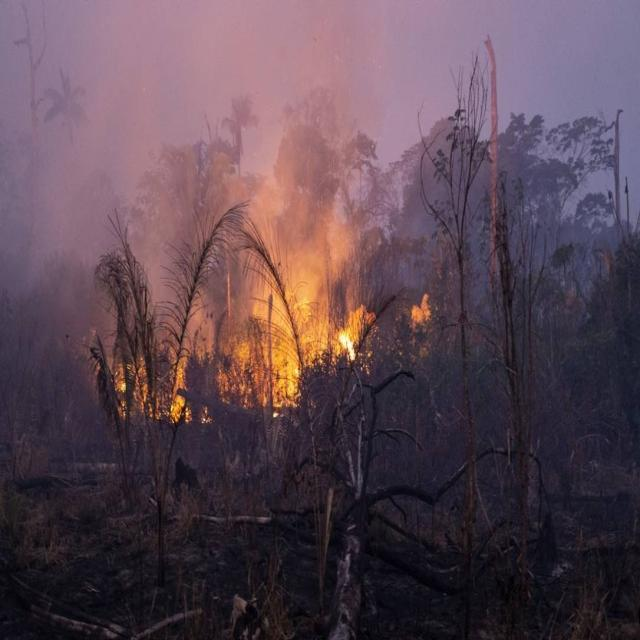Fire: (220, 288, 308, 408), (306, 303, 376, 377), (116, 351, 160, 418), (168, 354, 194, 426), (199, 403, 214, 426)
Smoke: (0, 0, 178, 261), (219, 170, 354, 294)
